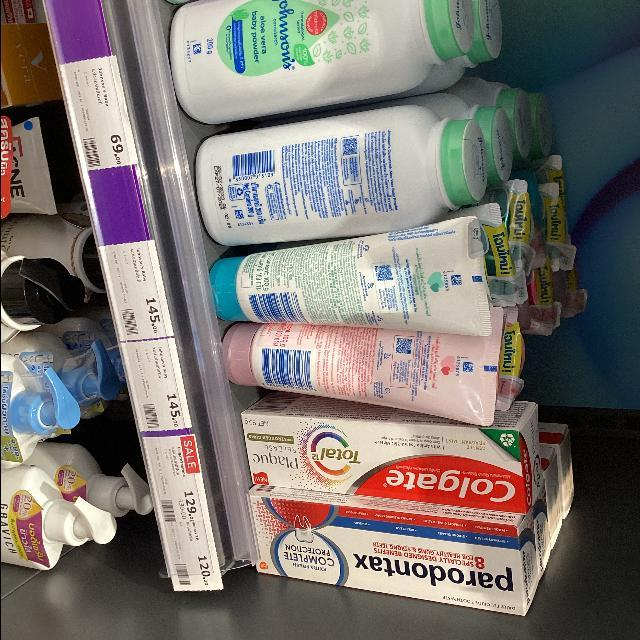Squeeze Tube: (200, 209, 533, 421), (218, 315, 514, 437), (210, 221, 499, 339)
